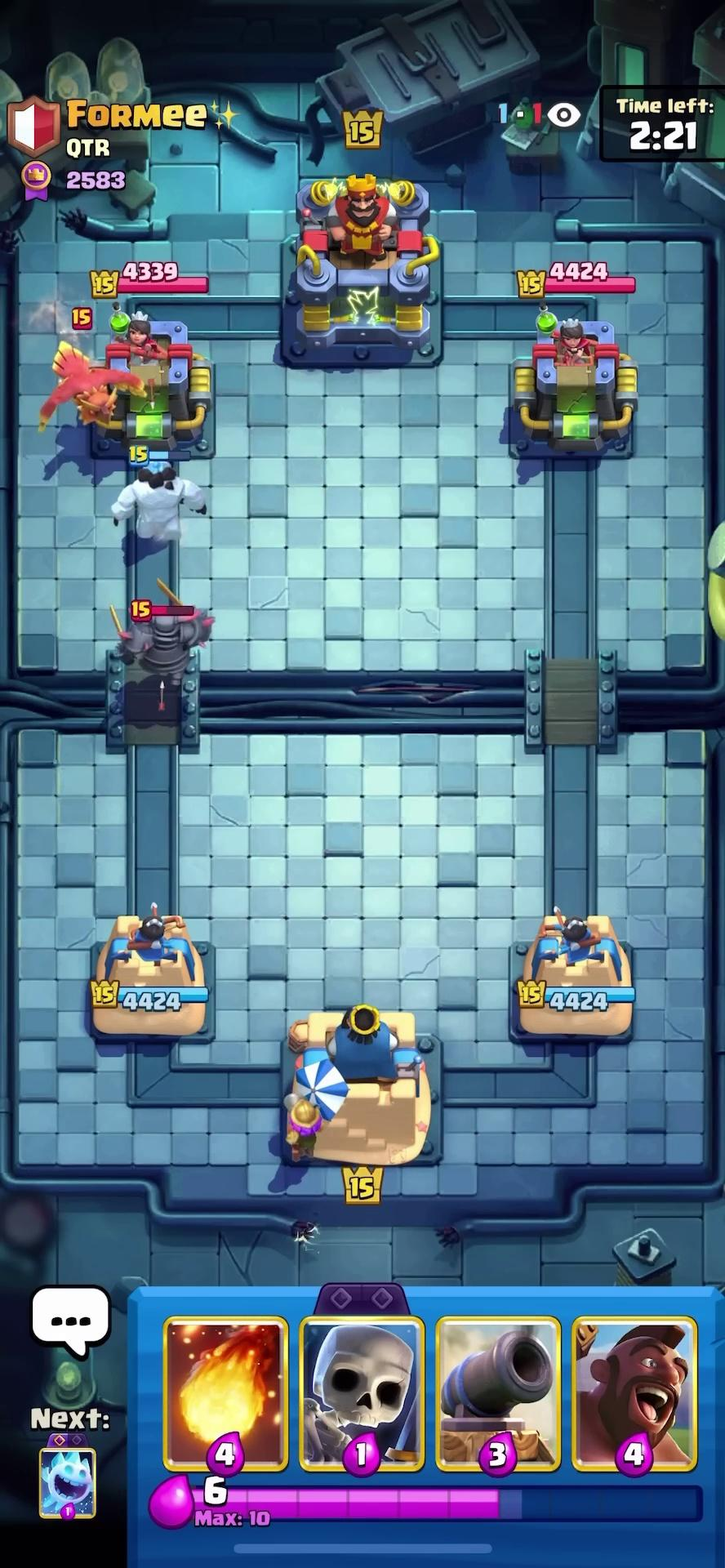ice_golem: (114, 429, 212, 543)
